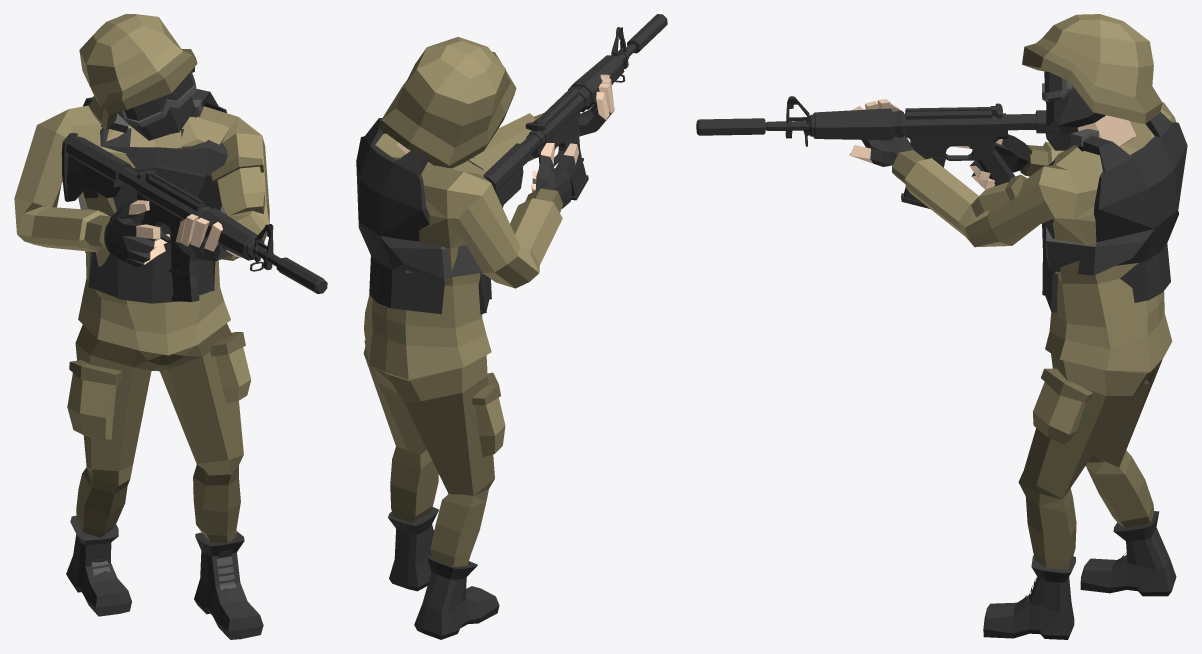
Rendered from shooting_stance.fbx.
The picture shows the model from 3 angles, left to right: view 1: azimuth 30°, elevation 25°; view 2: azimuth 150°, elevation 25°; view 3: azimuth 270°, elevation 25°; orthographic projection. The views are drawn at different scales.
Visible parts, largest first — view 1: Soldat, M4, M4 Amo; view 2: Soldat, M4, M4 Amo; view 3: Soldat, M4.
Boxes of the visible parts, <box> form: Soldat: <box>14,14,269,639</box>; M4: <box>61,133,327,293</box>; M4 Amo: <box>169,244,199,301</box>; Soldat: <box>356,37,614,639</box>; M4: <box>483,14,667,207</box>; M4 Amo: <box>570,137,588,200</box>; Soldat: <box>849,14,1187,639</box>; M4: <box>696,96,1072,186</box>.
Size of the model in its own units: 1165 by 3171 by 2407.
